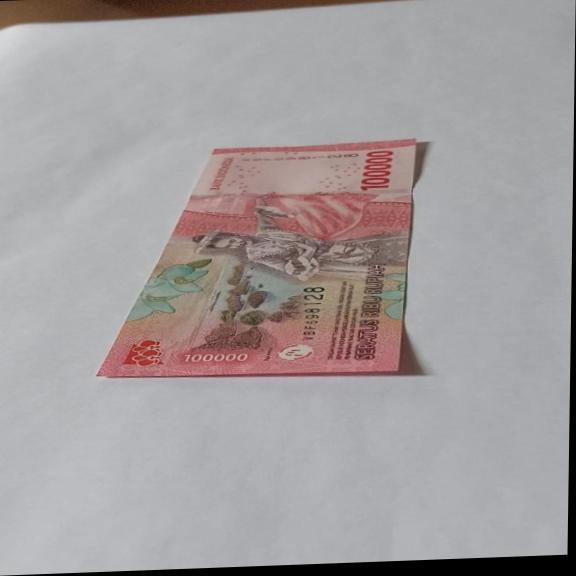Kertas: (94, 137, 422, 386)
